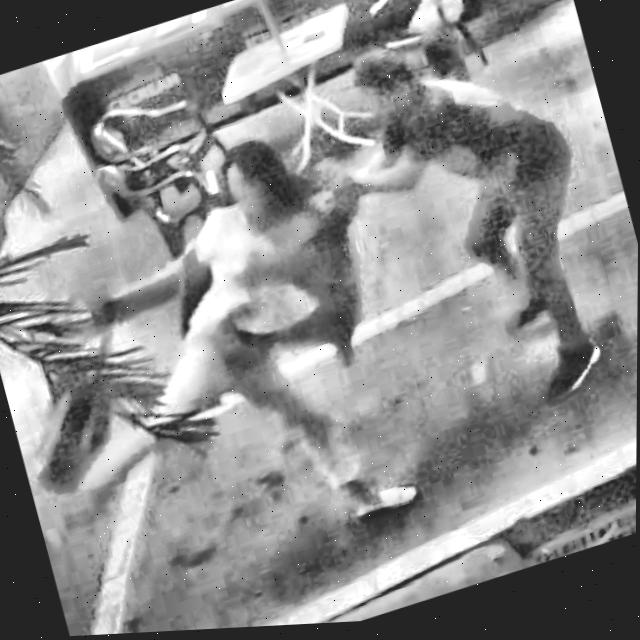robbery: (8, 35, 613, 538)
